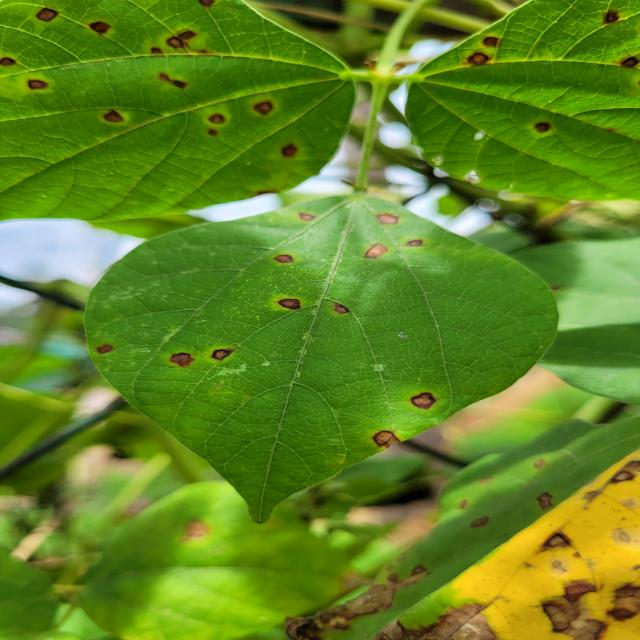Dolicos bean_cercospora leaf spot: (76, 189, 564, 519), (0, 0, 350, 219), (359, 418, 640, 640), (412, 0, 640, 202), (65, 479, 332, 640)
